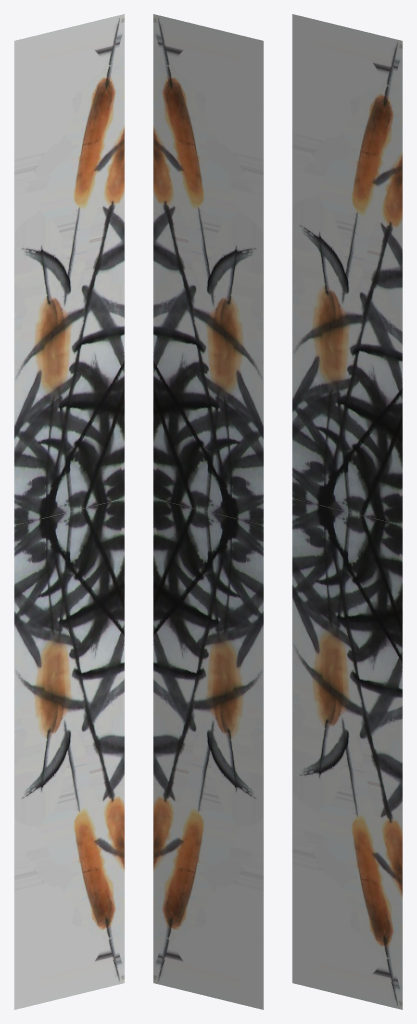
Rendered from PPX_REED8.fbx.
The picture shows the model from 3 angles, left to right: view 1: azimuth 30°, elevation 25°; view 2: azimuth 150°, elevation 25°; view 3: azimuth 330°, elevation 25°; orthographic projection.
Parts seen in each view (by area): view 1: 图层 7.png, 图层 7.png_2; view 2: 图层 7.png, 图层 7.png_2; view 3: 图层 7.png, 图层 7.png_2.
Boxes of the visible parts, box(x1,y1,x2,y2) form: 图层 7.png: box(14, 14, 124, 525); 图层 7.png_2: box(14, 498, 124, 1009); 图层 7.png: box(153, 14, 263, 525); 图层 7.png_2: box(153, 498, 263, 1009); 图层 7.png: box(292, 14, 402, 525); 图层 7.png_2: box(292, 498, 402, 1009).
Bounding box in the file's own units: 39.5 × 0 × 332.
1 material, 1 textured.
